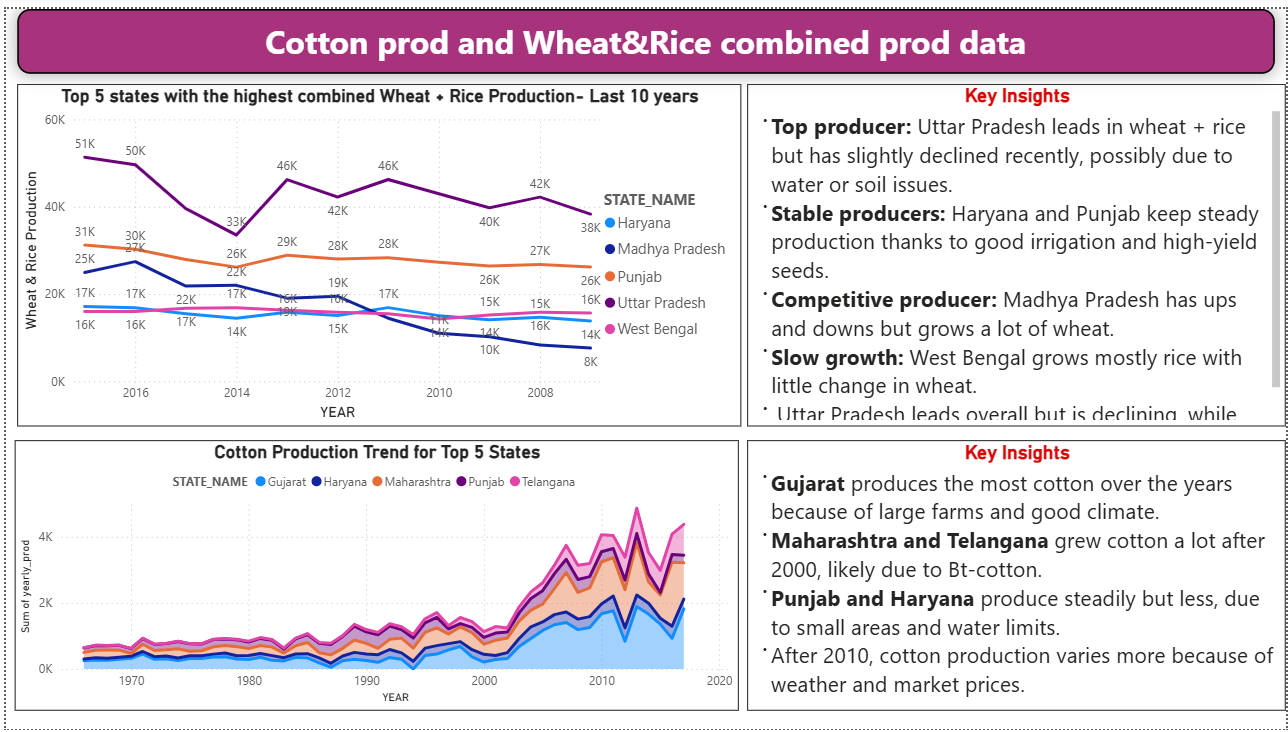

This screenshot's page, from the dashboard's own definition file:
{"tool":"powerbi","page":{"name":"Dashboard-4","canvas":[1280,720],"ordinal":3},"visuals":[{"type":"lineChart","title":"Top 5 states with the highest combined Wheat + Rice Production- Last 10 years","fields":{"Category":["Query1.YEAR"],"Y":["Sum(Query1.Total_Wheat_Rice_Prod)"],"Series":["Query1.STATE_NAME"]},"box":[11.2,75,723.8,342.5],"z":0},{"type":"textbox","title":"Key Insights","box":[741.2,75,538.8,342.5],"z":1000},{"type":"stackedAreaChart","title":"Cotton Production Trend for Top 5 States","fields":{"Category":["Cotton Production Trend for Top 5 States.YEAR"],"Y":["Sum(Cotton Production Trend for Top 5 States.yearly_prod)"],"Series":["Cotton Production Trend for Top 5 States.STATE_NAME"]},"box":[8.8,431.2,723.8,270],"z":2000},{"type":"textbox","title":"Key Insights","box":[741.2,431.2,538.8,270],"z":3000},{"type":"textbox","box":[11.2,0,1257.5,65],"z":4000}]}

Visuals, with their boxes in screenshot pixels (x1, y1, x2, y2), scaled from the page's 1280x720 canvas onto the 1288x732 screenshot:
"Top 5 states with the highest combined Wheat + Rice Production- Last 10 years" lineChart: bbox(11, 76, 740, 424)
"Key Insights" textbox: bbox(746, 76, 1287, 424)
"Cotton Production Trend for Top 5 States" stackedAreaChart: bbox(9, 438, 737, 713)
"Key Insights" textbox: bbox(746, 438, 1287, 713)
textbox: bbox(11, 0, 1277, 66)
